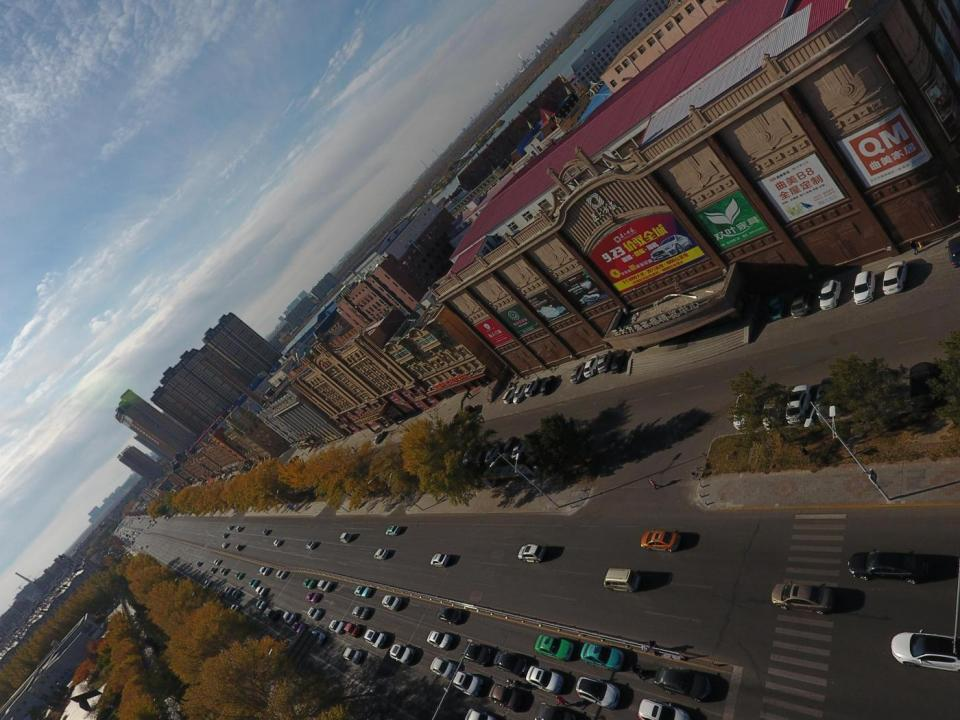bus: (264, 608, 278, 621)
car: (890, 631, 960, 674), (848, 549, 930, 584), (772, 582, 834, 617), (655, 665, 710, 701), (908, 362, 938, 412), (576, 677, 622, 709), (580, 642, 624, 670), (638, 698, 691, 720), (534, 701, 594, 720), (526, 666, 566, 694), (534, 635, 575, 662), (734, 390, 760, 430), (787, 384, 813, 423), (816, 376, 839, 420), (493, 649, 529, 677), (883, 260, 909, 295), (488, 684, 523, 710), (764, 391, 787, 428), (791, 284, 815, 319), (640, 530, 680, 551), (854, 271, 877, 305), (819, 279, 843, 311), (453, 671, 482, 697), (462, 642, 491, 666), (430, 657, 457, 679), (464, 707, 508, 720), (517, 545, 546, 564), (427, 630, 453, 651), (389, 644, 415, 664), (437, 607, 463, 625), (364, 629, 388, 648), (948, 233, 960, 268), (484, 442, 502, 465), (570, 361, 587, 385), (612, 351, 629, 374), (511, 437, 528, 460), (584, 354, 600, 378), (502, 437, 518, 461), (463, 446, 481, 467), (476, 444, 492, 467), (597, 348, 611, 374), (381, 596, 403, 612), (343, 648, 363, 664), (540, 375, 556, 394), (328, 619, 346, 635), (513, 384, 527, 404), (430, 554, 450, 568), (503, 387, 519, 404), (309, 629, 325, 646), (344, 622, 361, 638), (525, 377, 538, 396), (352, 606, 369, 619), (461, 405, 473, 423), (354, 586, 372, 598), (282, 611, 297, 625), (307, 607, 323, 620), (318, 579, 332, 592), (292, 621, 306, 633), (374, 549, 389, 560), (386, 525, 401, 536), (374, 430, 385, 443), (306, 592, 319, 603), (303, 579, 316, 589), (259, 566, 270, 577), (229, 603, 240, 613), (255, 587, 266, 597), (306, 540, 316, 551), (275, 570, 287, 579), (256, 600, 266, 610), (249, 578, 258, 588), (216, 591, 224, 599), (232, 590, 240, 598), (234, 572, 243, 579), (220, 568, 228, 575), (262, 528, 269, 536), (224, 587, 232, 594), (273, 539, 281, 546), (235, 544, 242, 550), (235, 526, 242, 532), (222, 542, 228, 548), (196, 560, 202, 566), (214, 559, 220, 565), (210, 566, 216, 572), (204, 580, 210, 586), (222, 533, 228, 538), (228, 525, 233, 530), (145, 544, 148, 548), (139, 546, 142, 550), (148, 520, 152, 522), (146, 527, 149, 529), (151, 524, 153, 526), (154, 521, 156, 523), (150, 524, 152, 526), (152, 518, 154, 520), (152, 522, 154, 523)
van: (604, 568, 641, 594), (340, 532, 352, 543)
